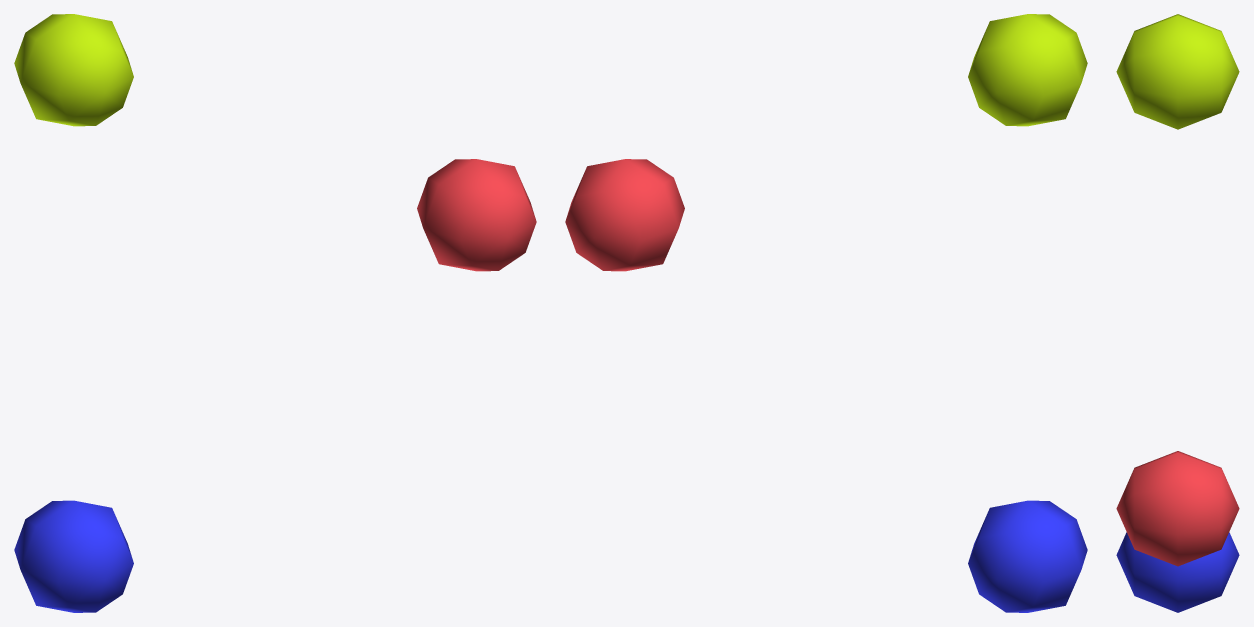
File: juggling_balls.glb
The picture shows the model from 3 angles, left to right: view 1: azimuth 30°, elevation 25°; view 2: azimuth 150°, elevation 25°; view 3: azimuth 270°, elevation 25°; orthographic projection.
Parts seen in each view (by area): view 1: Sphere, Sphere.002, Sphere.001; view 2: Sphere, Sphere.002, Sphere.001; view 3: Sphere.001, Sphere, Sphere.002.
Part boxes in pixels (x1,y1,x2,y2): Sphere: (417,159,536,271); Sphere.002: (14,500,133,612); Sphere.001: (14,14,133,126); Sphere: (565,159,684,271); Sphere.002: (968,500,1087,612); Sphere.001: (968,14,1087,126); Sphere.001: (1116,14,1239,129); Sphere: (1116,451,1239,566); Sphere.002: (1116,532,1239,612).
Size of the model in its own units: 1.9 by 2.13 by 0.4.
Materials: 1 (1 with a texture image).
